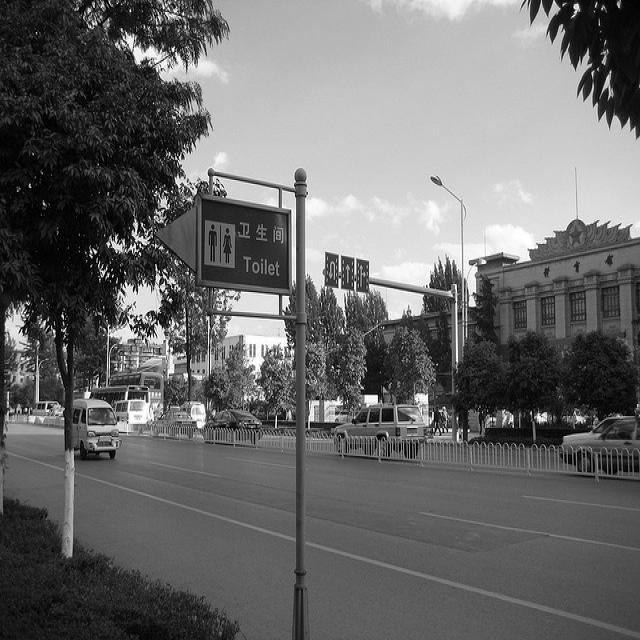bus: (104, 363, 168, 420), (86, 382, 157, 427)
car: (563, 418, 639, 473), (333, 404, 424, 440), (561, 413, 635, 443), (200, 407, 263, 428), (151, 408, 196, 436), (44, 405, 64, 415)
pole: (289, 164, 313, 639), (59, 382, 78, 562)
truck: (70, 393, 117, 456), (30, 399, 57, 413), (190, 403, 205, 420)
